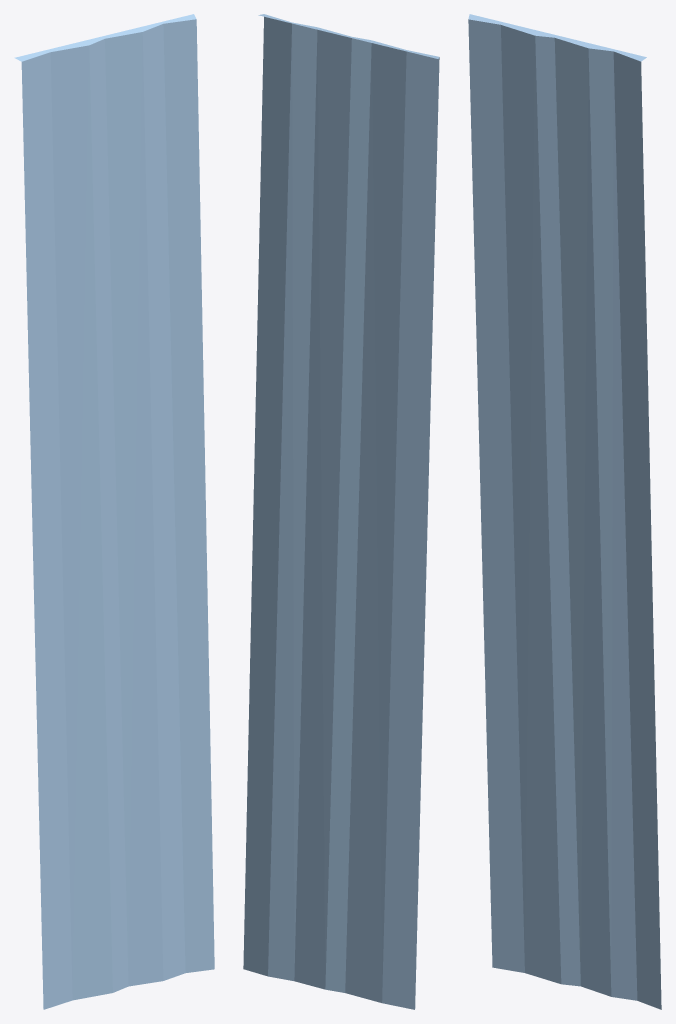
The model's file is Waterfall_Straight_Large_01.fbx.
3 views of the same model, side by side, from view 1: azimuth 30°, elevation 25°; view 2: azimuth 150°, elevation 25°; view 3: azimuth 330°, elevation 25° (orthographic).
Visible parts, largest first — view 1: Waterfall_Straight_Large_01; view 2: Waterfall_Straight_Large_01; view 3: Waterfall_Straight_Large_01.
Part boxes in pixels (x1=…): Waterfall_Straight_Large_01: x1=14, y1=14, x2=214, y2=1009; Waterfall_Straight_Large_01: x1=243, y1=14, x2=439, y2=1009; Waterfall_Straight_Large_01: x1=468, y1=14, x2=661, y2=1009.
Bounding box in the file's own units: 69.15 × 321 × 2.68.
